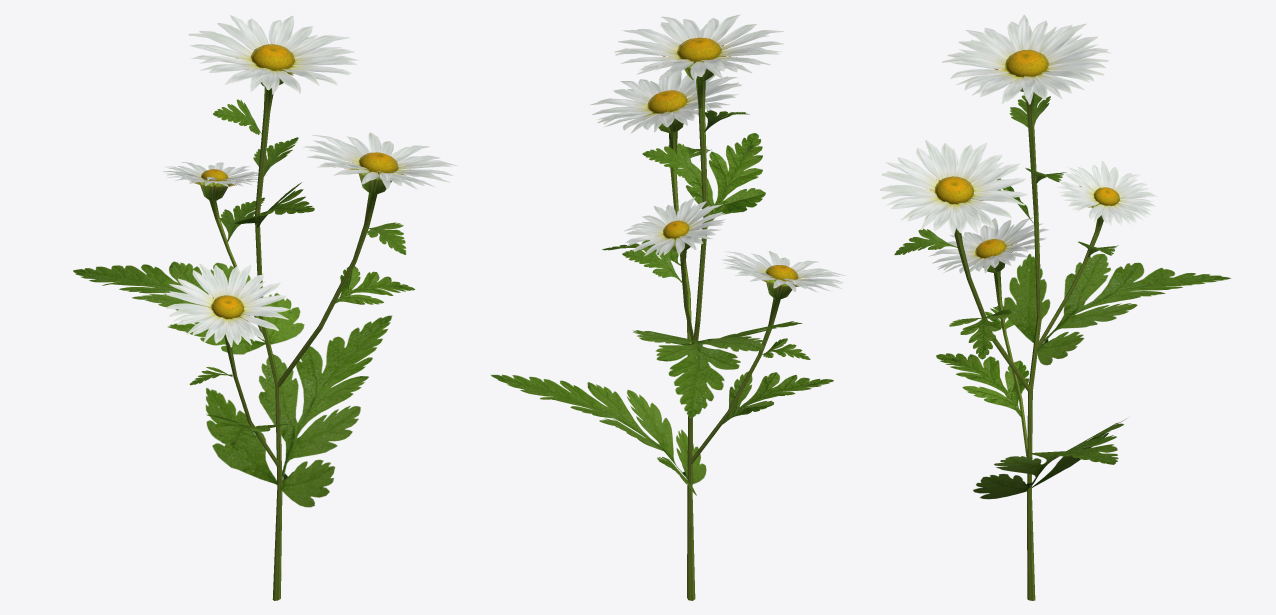
Rendered from fleur.gltf.
The picture shows the model from 3 angles, left to right: view 1: azimuth 30°, elevation 25°; view 2: azimuth 150°, elevation 25°; view 3: azimuth 270°, elevation 25°; orthographic projection. The views are drawn at different scales.
Visible parts, largest first — view 1: Object_3, Object_5, Object_2, Object_4; view 2: Object_3, Object_5, Object_2, Object_4; view 3: Object_5, Object_3, Object_2, Object_4.
Boxes of the visible parts, bbox=[...] form: Object_3: bbox=[73, 99, 415, 507]; Object_5: bbox=[163, 15, 457, 347]; Object_2: bbox=[190, 58, 410, 600]; Object_4: bbox=[201, 44, 398, 319]; Object_3: bbox=[490, 110, 833, 495]; Object_5: bbox=[589, 14, 845, 292]; Object_2: bbox=[643, 45, 800, 600]; Object_4: bbox=[647, 37, 798, 281]; Object_5: bbox=[880, 14, 1158, 273]; Object_3: bbox=[894, 92, 1231, 499]; Object_2: bbox=[929, 68, 1103, 600]; Object_4: bbox=[934, 49, 1119, 258].
Size of the model in its own units: 34.64 by 49.6 by 31.41.
4 materials, 4 textured.
